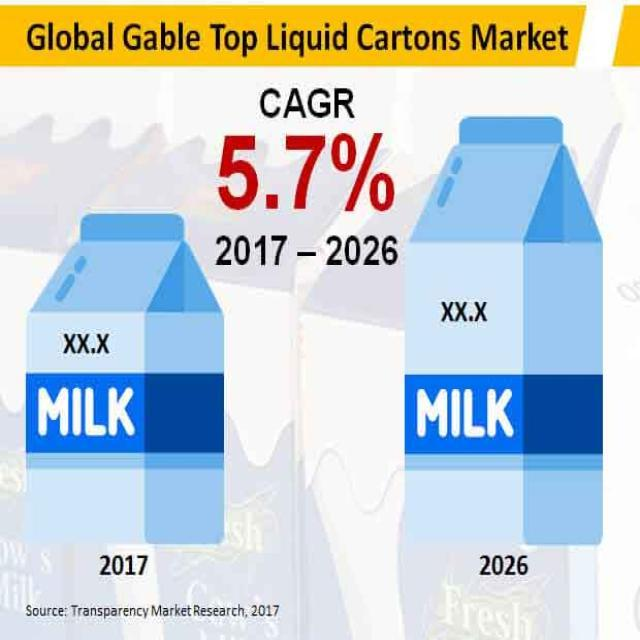Carton: (392, 104, 608, 556), (12, 198, 240, 552)
